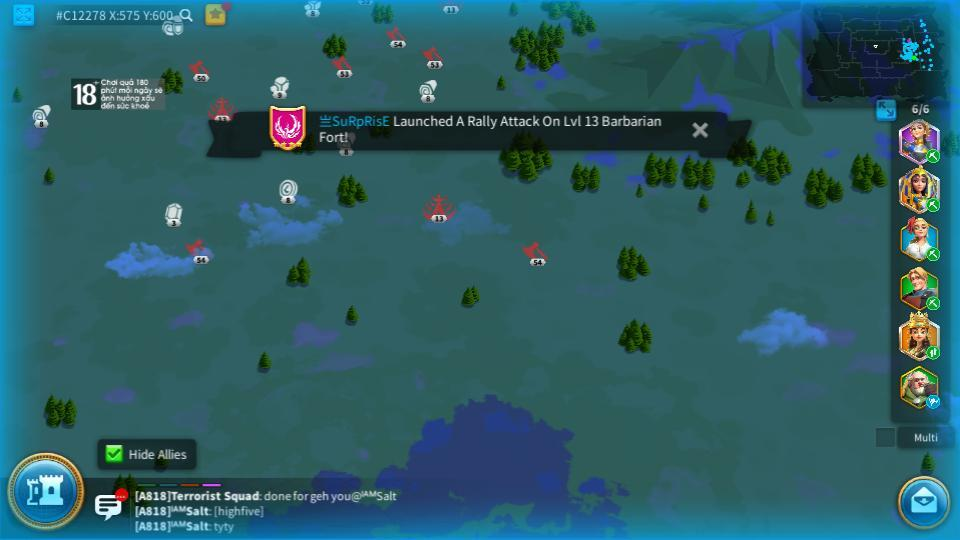gem-z-out: (164, 202, 183, 225)
march_farming: (923, 197, 940, 212), (923, 149, 939, 162), (925, 297, 941, 308)
march_idle: (925, 396, 942, 408)
march_marching: (925, 345, 941, 359)
